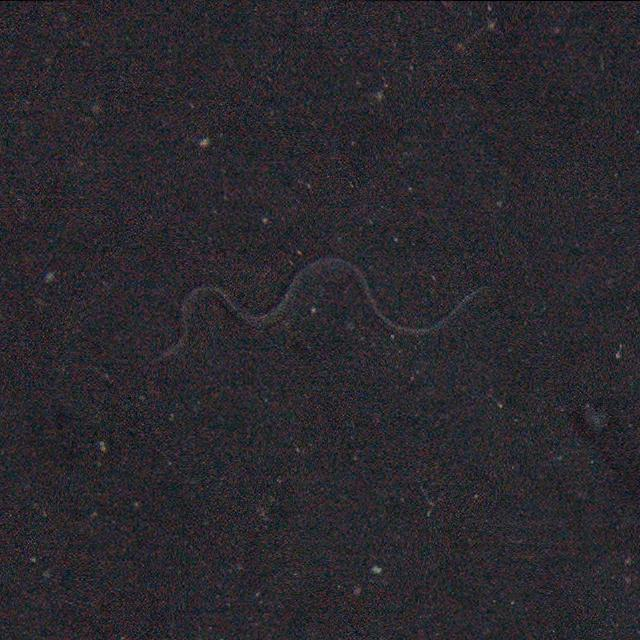eel: (167, 254, 493, 370)
